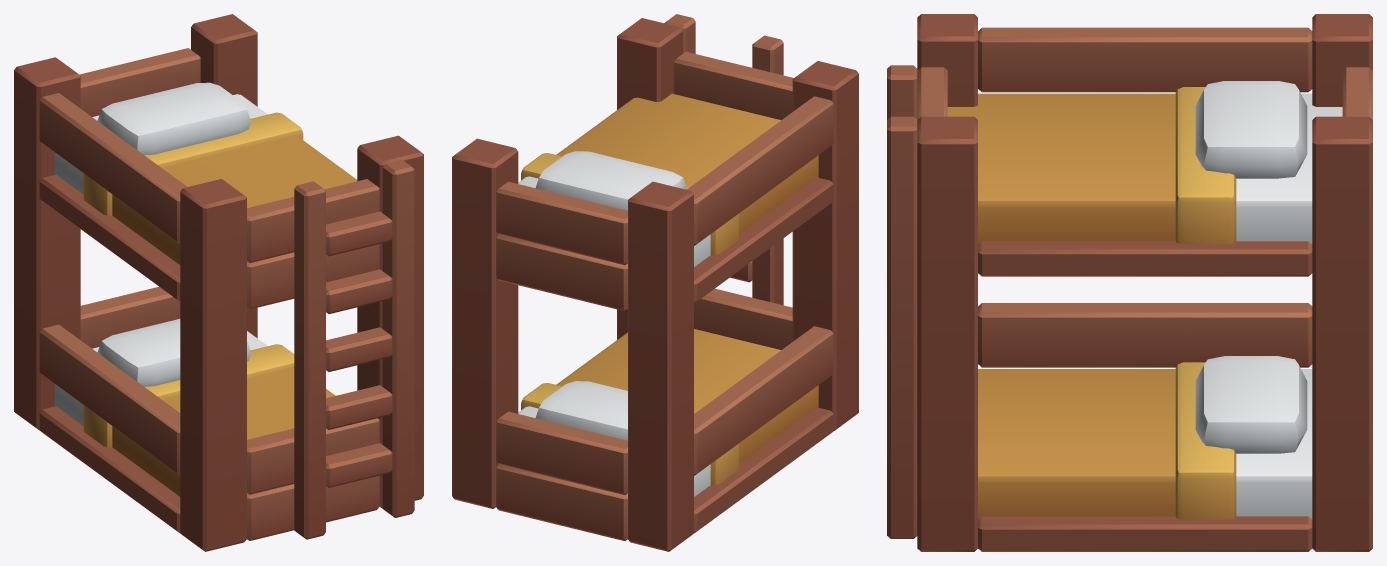
Rendered from bed_A_stacked.glb.
3 renders of one model, left to right at view 1: azimuth 30°, elevation 25°; view 2: azimuth 150°, elevation 25°; view 3: azimuth 270°, elevation 25°, orthographic. The views are drawn at different scales.
Parts seen in each view (by area): view 1: bed_A_stacked, bed_A_stacked_ladder; view 2: bed_A_stacked, bed_A_stacked_ladder; view 3: bed_A_stacked, bed_A_stacked_ladder.
Boxes of the visible parts, box(x1,y1,x2,y2) form: bed_A_stacked: box(14, 14, 423, 551); bed_A_stacked_ladder: box(294, 160, 414, 539); bed_A_stacked: box(452, 18, 858, 551); bed_A_stacked_ladder: box(664, 14, 783, 305); bed_A_stacked: box(917, 14, 1372, 551); bed_A_stacked_ladder: box(887, 65, 917, 538).
Size of the model in its own units: 2 by 3 by 3.2.
1 material, 1 textured.
